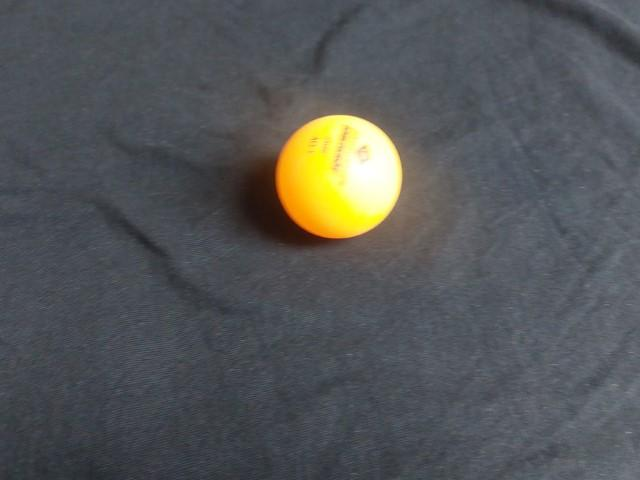oball: (269, 109, 409, 250)
